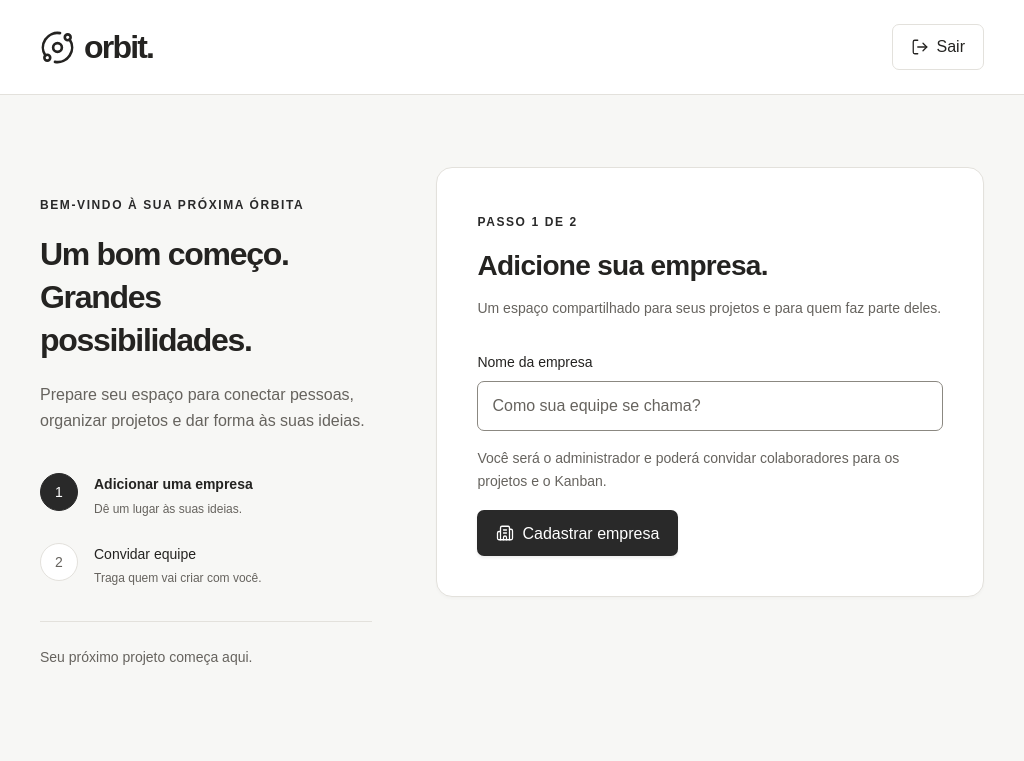
Test case: Onboarding de empresa e equipe › preserva o nome e a primeira etapa quando a criação é recusada
Type "Meu estúdio" into the field labelled "Nome da empresa" at (710, 406), box x1=477 y1=381 x2=943 y2=431
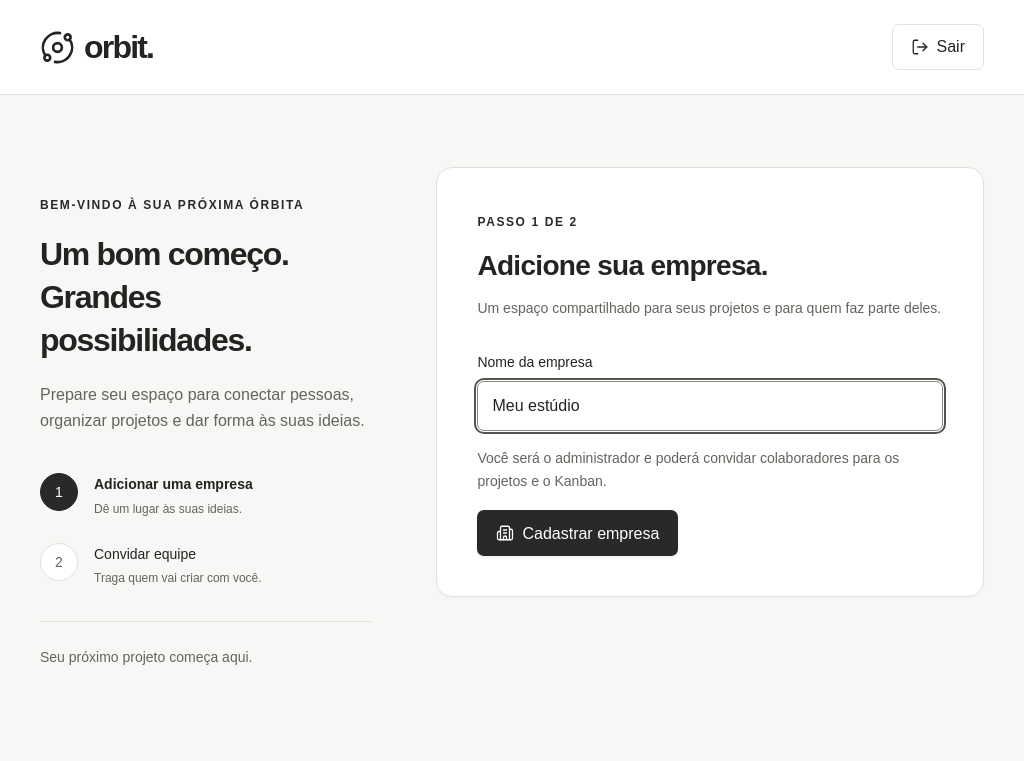
Click the button "Cadastrar empresa" at (578, 533), box x1=477 y1=510 x2=678 y2=556
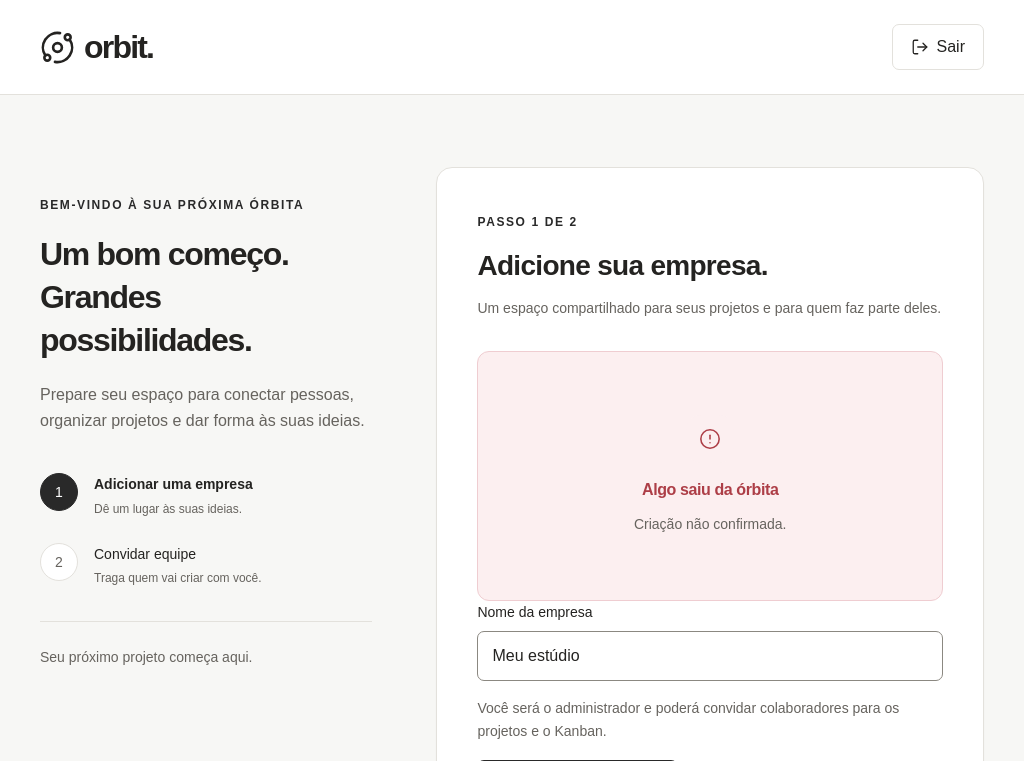
Result: the message shows "Criação não confirmada." at x1=634 y1=516 x2=786 y2=532
